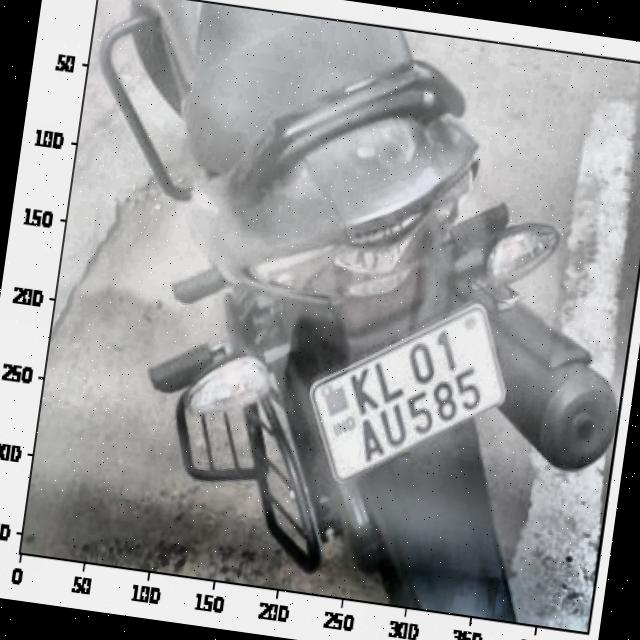license_plate: (330, 311, 494, 482)
